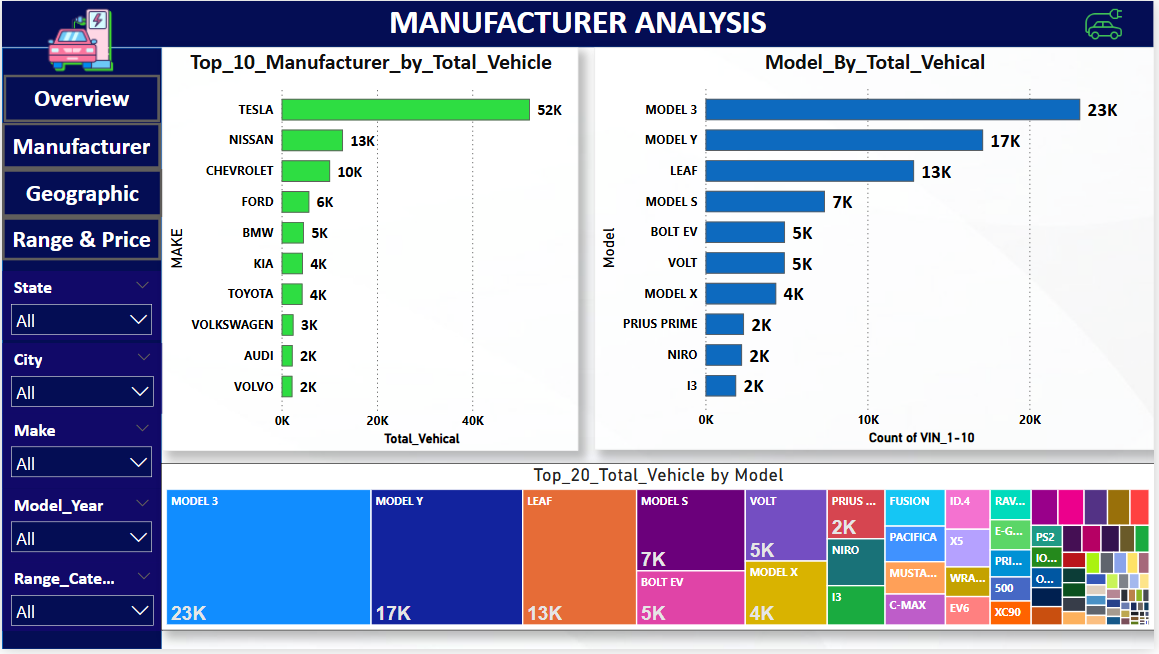

The dashboard page shown, as its layout file describes it:
{"tool":"powerbi","page":{"name":"Manufacturer","canvas":[1280,720],"ordinal":1},"visuals":[{"type":"shape","title":"MANUFACTURER ANALYSIS","box":[0,0,1279.4,51],"z":0},{"type":"shape","box":[0,51,177.6,669],"z":1000},{"type":"actionButton","box":[0,186.7,178.3,53.3],"z":2000},{"type":"actionButton","box":[1.9,81.3,173.9,52.9],"z":3000},{"type":"actionButton","box":[0,240,176.7,48.3],"z":4000},{"type":"actionButton","box":[0,135,176.7,51.7],"z":5000},{"type":"slicer","fields":{"Values":["Electric_Vehicle.Make"]},"box":[0,458.3,176.7,83.3],"z":6000},{"type":"slicer","fields":{"Values":["Electric_Vehicle.Model_Year"]},"box":[0,541.7,176.7,81.7],"z":7000},{"type":"slicer","fields":{"Values":["Electric_Vehicle.City"]},"box":[0,380,178.3,78.3],"z":8000},{"type":"slicer","fields":{"Values":["Electric_Vehicle.State"]},"box":[0,300,176.7,76.7],"z":9000},{"type":"slicer","fields":{"Values":["Electric_Vehicle.Range_Category"]},"box":[0,623.3,178.3,76.7],"z":10000},{"type":"clusteredBarChart","title":"Top_10_Manufacturer_by_Total_Vehicle","fields":{"Category":["Electric_Vehicle.Make"],"Y":["NEW_MEASURES.Total_Vehicle"]},"box":[178,52,462,448],"z":11000},{"type":"clusteredBarChart","title":"Model_By_Total_Vehical","fields":{"Category":["Electric_Vehicle.Model"],"Y":["CountNonNull(Electric_Vehicle.VIN_1-10)"]},"box":[658.5,52.5,621.9,447],"z":12000},{"type":"treemap","title":"Top_20_Total_Vehicle by Model","fields":{"Values":["NEW_MEASURES.Total_Vehicle"],"Group":["Electric_Vehicle.Model"]},"box":[176,514,1104,186],"z":13000},{"type":"image","box":[0,0,173.4,85.9],"z":14000},{"type":"image","box":[1169.1,0,111.3,50.9],"z":16000}]}

Visuals, with their boxes in screenshot pixels (x1, y1, x2, y2), scaled from the page's 1280x720 canvas onto the 1159x654 screenshot:
"MANUFACTURER ANALYSIS" shape: bbox(0, 0, 1158, 46)
shape: bbox(0, 46, 161, 653)
actionButton: bbox(0, 170, 161, 218)
actionButton: bbox(2, 74, 159, 122)
actionButton: bbox(0, 218, 160, 262)
actionButton: bbox(0, 123, 160, 170)
slicer - Electric_Vehicle.Make: bbox(0, 416, 160, 492)
slicer - Electric_Vehicle.Model_Year: bbox(0, 492, 160, 566)
slicer - Electric_Vehicle.City: bbox(0, 345, 161, 416)
slicer - Electric_Vehicle.State: bbox(0, 272, 160, 342)
slicer - Electric_Vehicle.Range_Category: bbox(0, 566, 161, 636)
"Top_10_Manufacturer_by_Total_Vehicle" clusteredBarChart: bbox(161, 47, 580, 454)
"Model_By_Total_Vehical" clusteredBarChart: bbox(596, 48, 1158, 454)
"Top_20_Total_Vehicle by Model" treemap: bbox(159, 467, 1158, 636)
image: bbox(0, 0, 157, 78)
image: bbox(1059, 0, 1158, 46)
